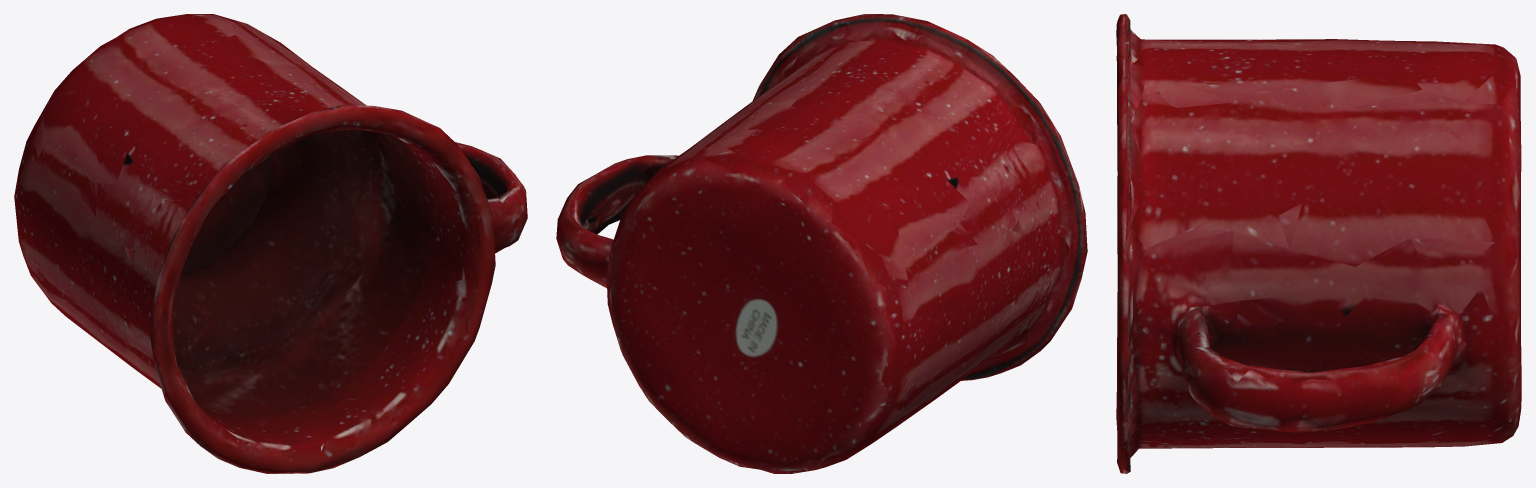
File: 025_mug.obj
3 views of the same model, side by side, from view 1: azimuth 30°, elevation 25°; view 2: azimuth 150°, elevation 25°; view 3: azimuth 270°, elevation 25° (orthographic). The views are drawn at different scales.
Visible parts, largest first — view 1: 025_mug; view 2: 025_mug; view 3: 025_mug.
Boxes of the visible parts, x1=… form: 025_mug: x1=14, y1=14, x2=527, y2=473; 025_mug: x1=556, y1=14, x2=1087, y2=473; 025_mug: x1=1116, y1=14, x2=1521, y2=473.
Bounding box in the file's own units: 0.1169 × 0.0931 × 0.0814.
Materials: 1 (1 with a texture image).
